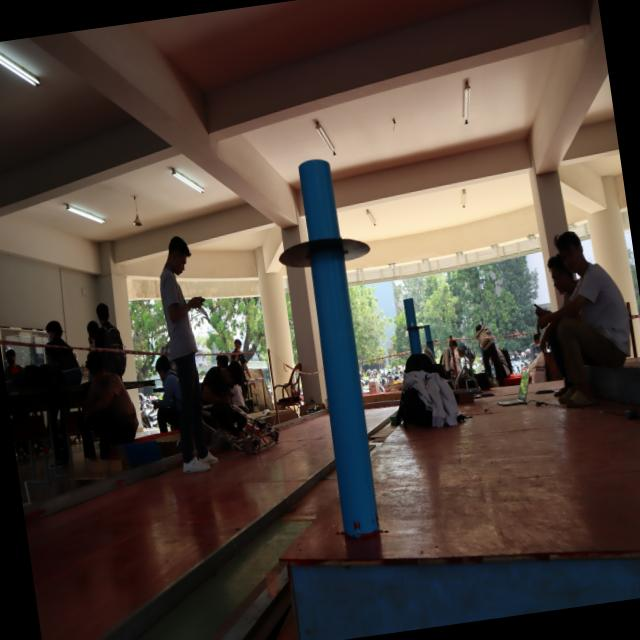pole: (261, 144, 392, 374), (390, 287, 430, 358)
